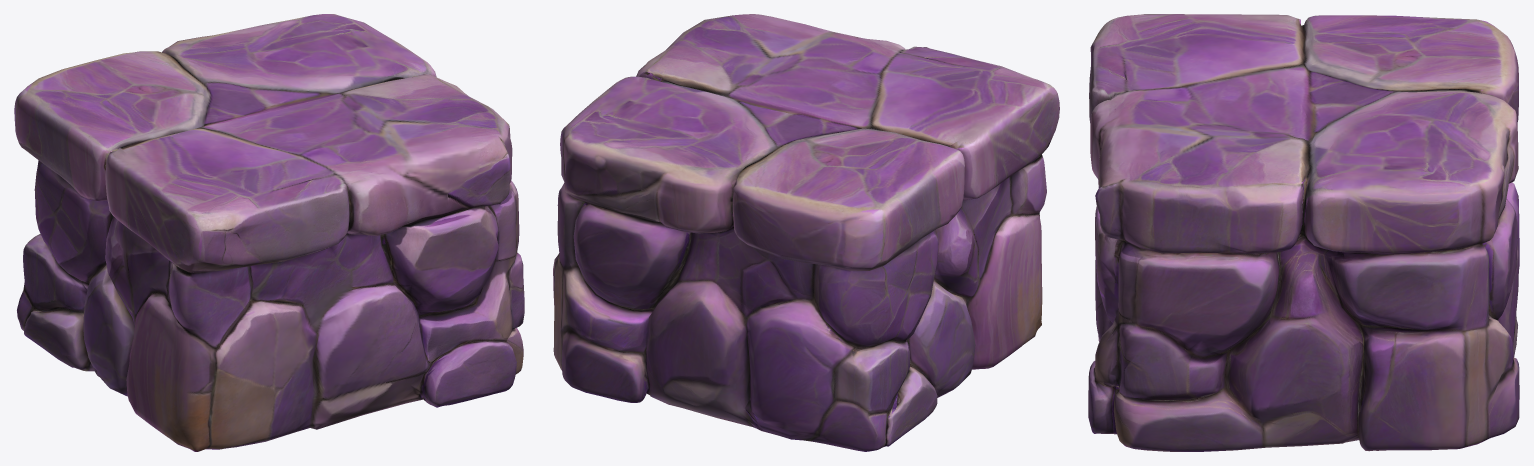
The model's file is Purple_Stone_Wall_A.fbx.
3 views of the same model, side by side, from view 1: azimuth 30°, elevation 25°; view 2: azimuth 150°, elevation 25°; view 3: azimuth 270°, elevation 25° (orthographic). The views are drawn at different scales.
Visible parts, largest first — view 1: input; view 2: input; view 3: input.
Boxes of the visible parts, bbox=[...] form: input: bbox=[14, 14, 524, 451]; input: bbox=[553, 14, 1059, 451]; input: bbox=[1088, 14, 1519, 451].
Bounding box in the file's own units: 200 × 136 × 199.
1 material, 1 textured.
